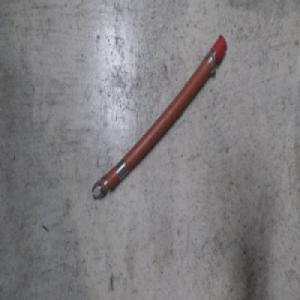Hose: (90, 33, 229, 204)
